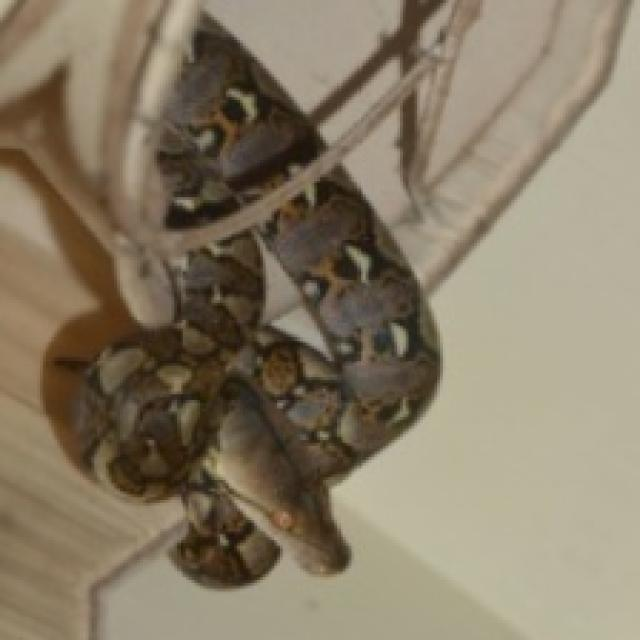reticulated python: (51, 169, 437, 583), (154, 14, 323, 226)
